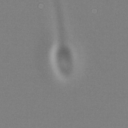normal: (50, 1, 72, 40)
